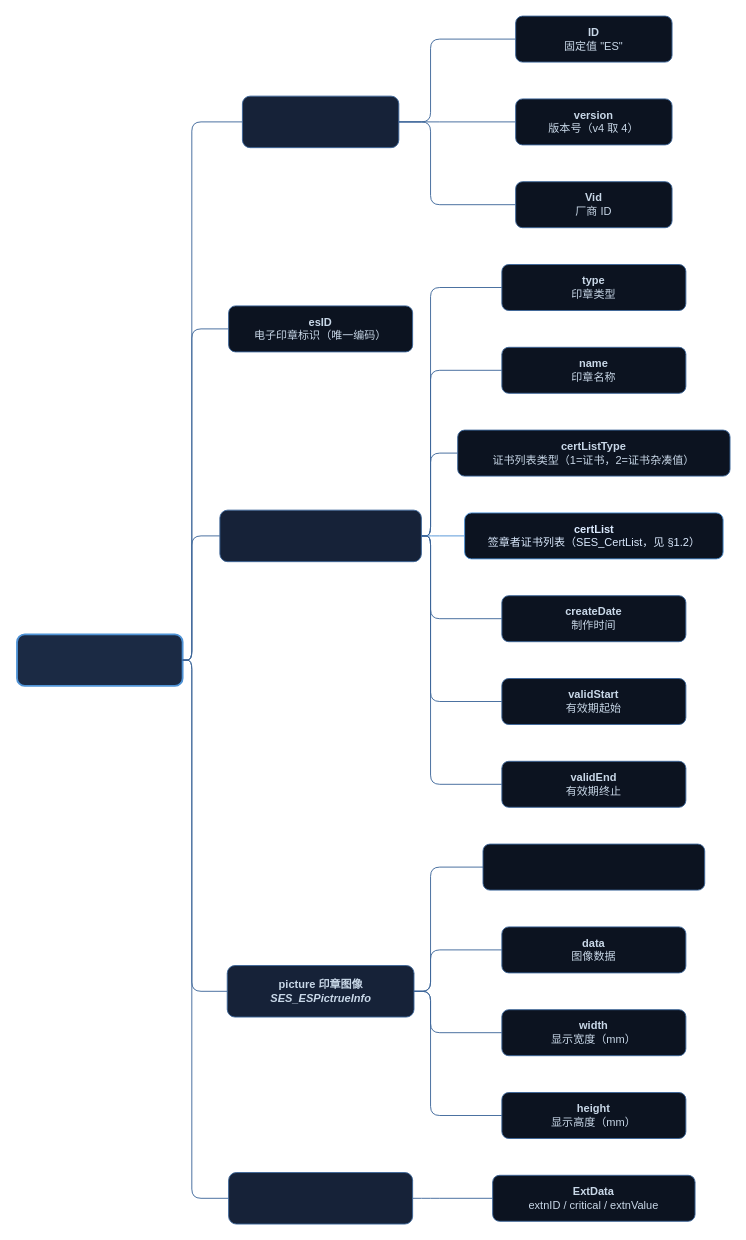
The diagram is 746 pixels wide and 1240 high, and some of its shapes have lost their labels. The shapes that lost their labels are listed below. From the top down, each one's centre as x and y in pixels, then its label:
At (x=320, y=121): "header 印章头 SES_Header".
At (x=320, y=535): "property 印章属性 SES_ESPropertyInfo".
At (x=99, y=659): "eSealInfo 印章信息 TBS_ESeal".
At (x=593, y=866): "type 图像类型（GIF/BMP/JPG/PNG/SVG）".
At (x=320, y=1198): "extDatas 自定义数据 OPTIONAL".
